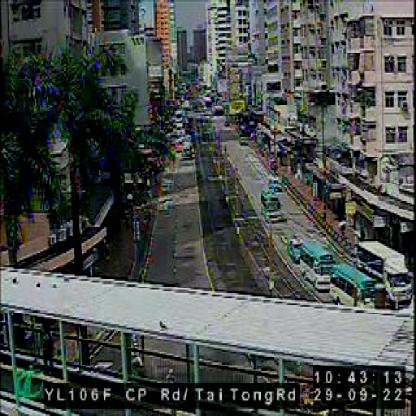Car: (263, 172, 278, 190), (179, 144, 194, 159), (174, 135, 182, 151)
Minibus: (329, 262, 378, 305), (299, 242, 335, 289), (256, 189, 284, 217)
Truck: (355, 236, 409, 300)
